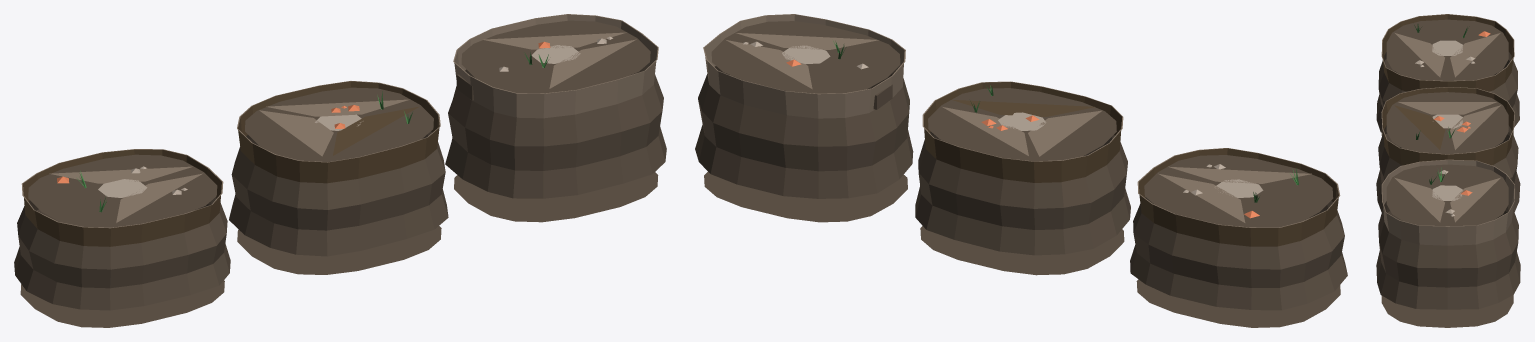
File: ReefStepsA.fbx
The picture shows the model from 3 angles, left to right: view 1: azimuth 30°, elevation 25°; view 2: azimuth 150°, elevation 25°; view 3: azimuth 270°, elevation 25°; orthographic projection. The views are drawn at different scales.
Parts seen in each view (by area): view 1: ReefStepsA; view 2: ReefStepsA; view 3: ReefStepsA.
Boxes of the visible parts, x1,y1,x2,y2 form: ReefStepsA: (14,14,666,327); ReefStepsA: (695,14,1347,327); ReefStepsA: (1376,14,1520,327).
Bounding box in the file's own units: 2297 × 505 × 583.
